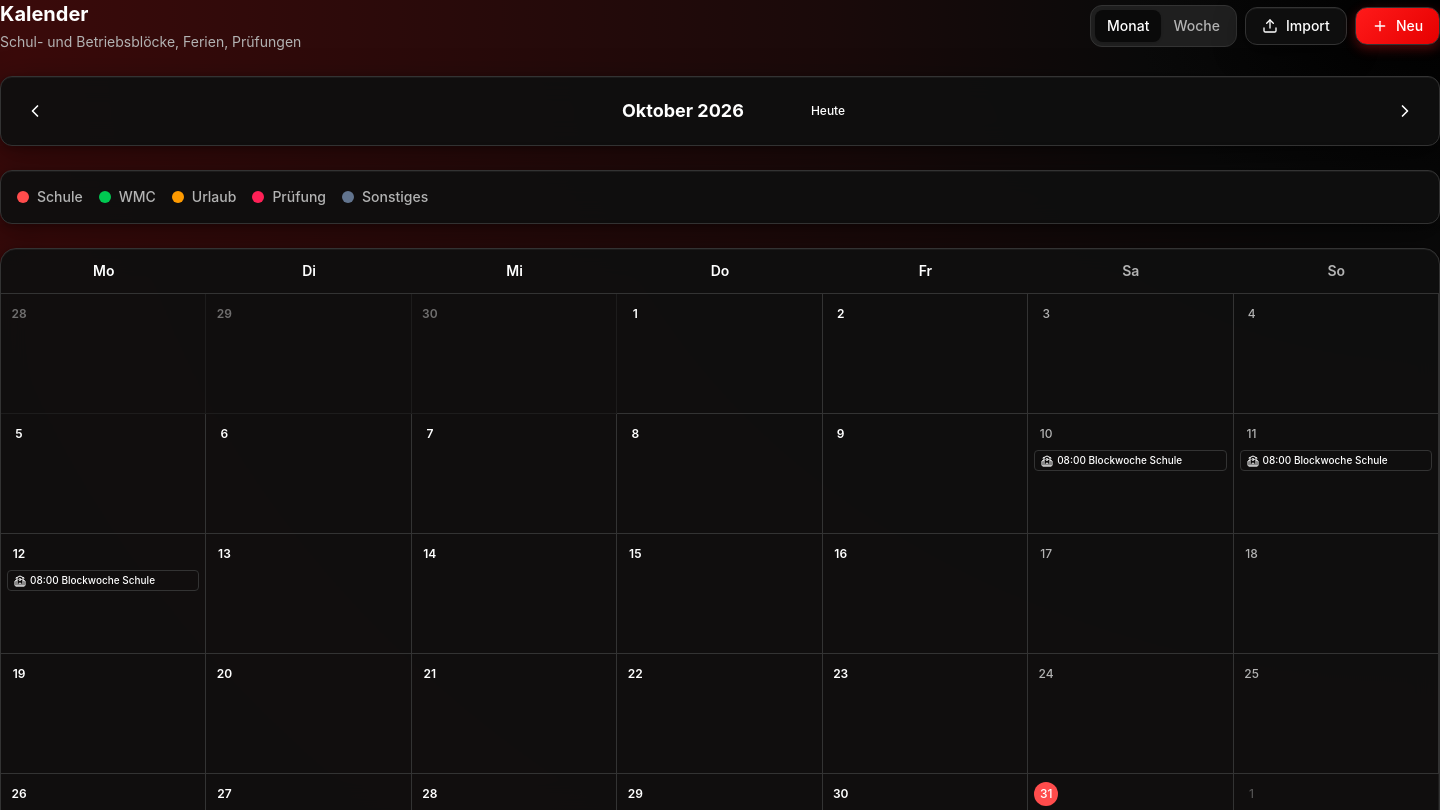
Test: BlockCalendar: phase label of a block › KfBM: Phase 2 is 16. bis 36. Ausbildungsmonat
Click the button "08:00 Blockwoche Schule" below "10". click: (1130, 460)
box: [1034, 450, 1226, 471]
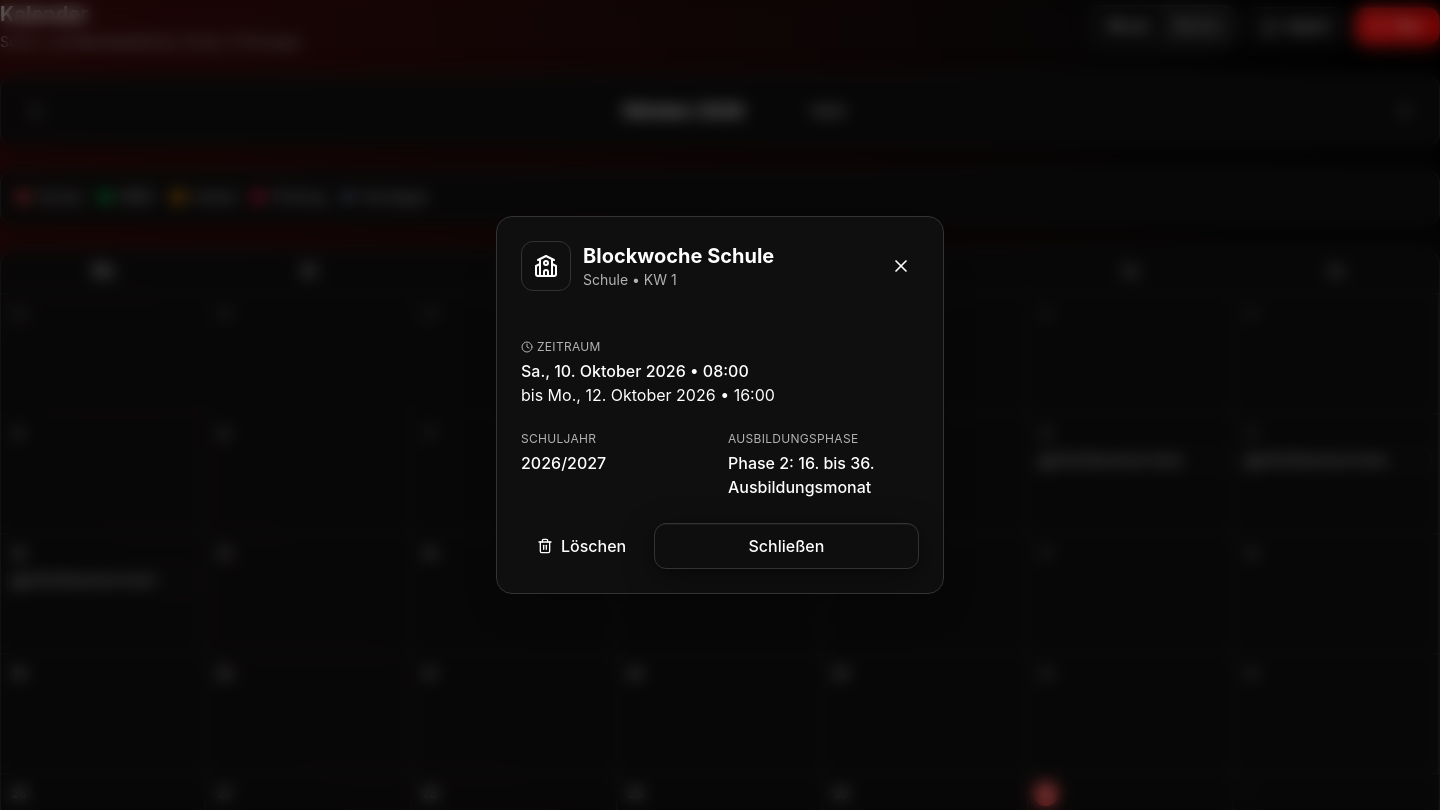
Check: the text "Phase 2: 16. bis 36. Ausbildungsmonat" is shown, box [728, 453, 874, 497]
